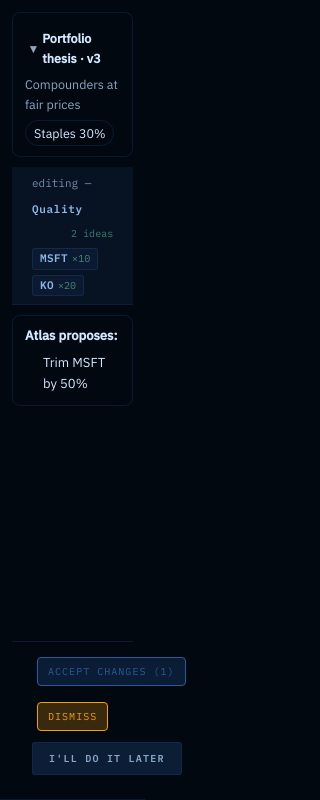
Test: PortfolioSurface — a review › after a pass: the proposal is listed, Accept commits it and clears the review's pencil
The image size is (320, 800).
Expected: the list item "Trim MSFT by 50%" is shown, [43,354,105,392]
Click the button "Accept changes (1)" at [111, 672], box [37,657,186,686]
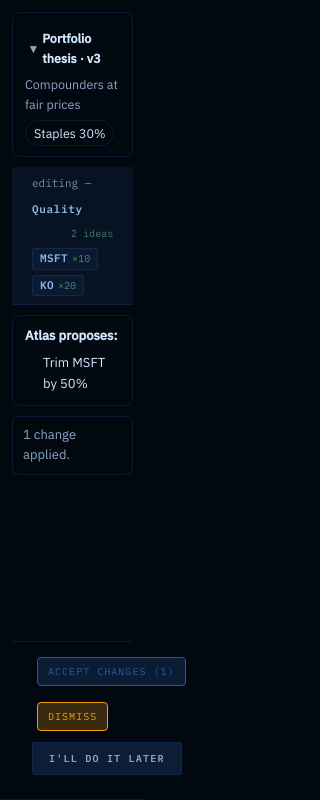
Expected: the text "1 change applied." is shown, [12,416,133,475]
